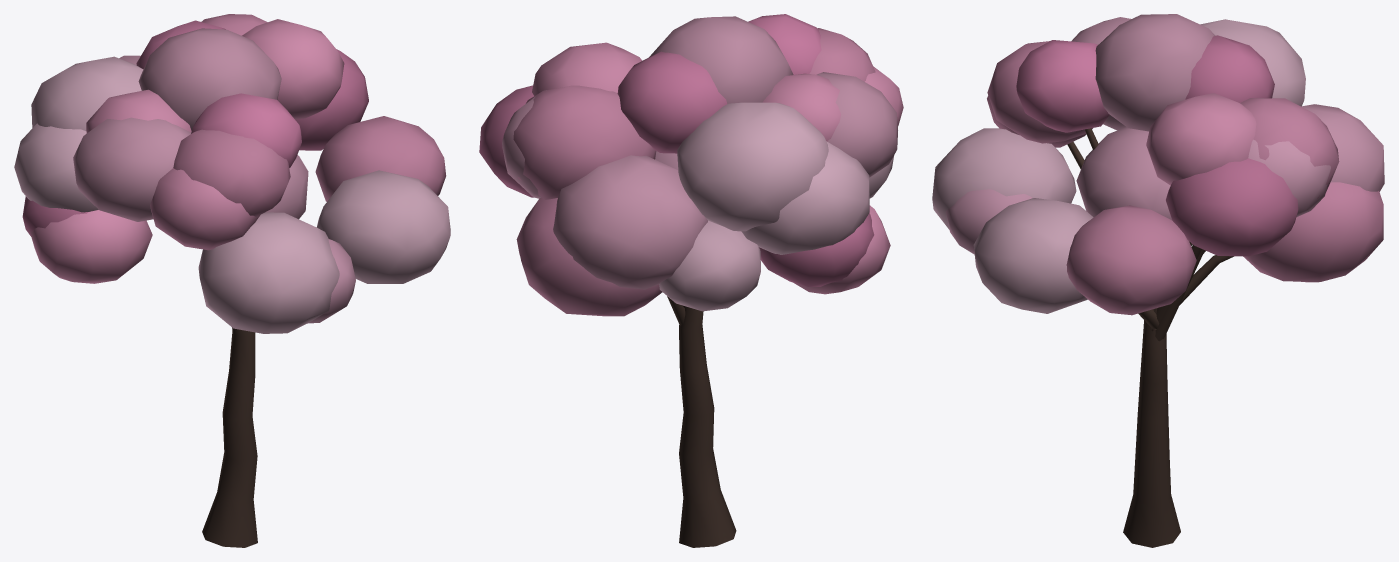
The model's file is tree_sakura_round.glb.
3 renders of one model, left to right at view 1: azimuth 30°, elevation 25°; view 2: azimuth 150°, elevation 25°; view 3: azimuth 270°, elevation 25°, orthographic. The views are drawn at different scales.
Visible parts, largest first — view 1: crown, trunk; view 2: crown, trunk; view 3: crown, trunk.
Part boxes in pixels (x1,y1,x2,y2): crown: (14,14,450,333); trunk: (202,327,257,547); crown: (479,14,903,316); trunk: (667,296,736,547); crown: (932,14,1384,315); trunk: (1067,128,1233,547).
Bounding box in the file's own units: 4.2 × 5.37 × 4.36.
